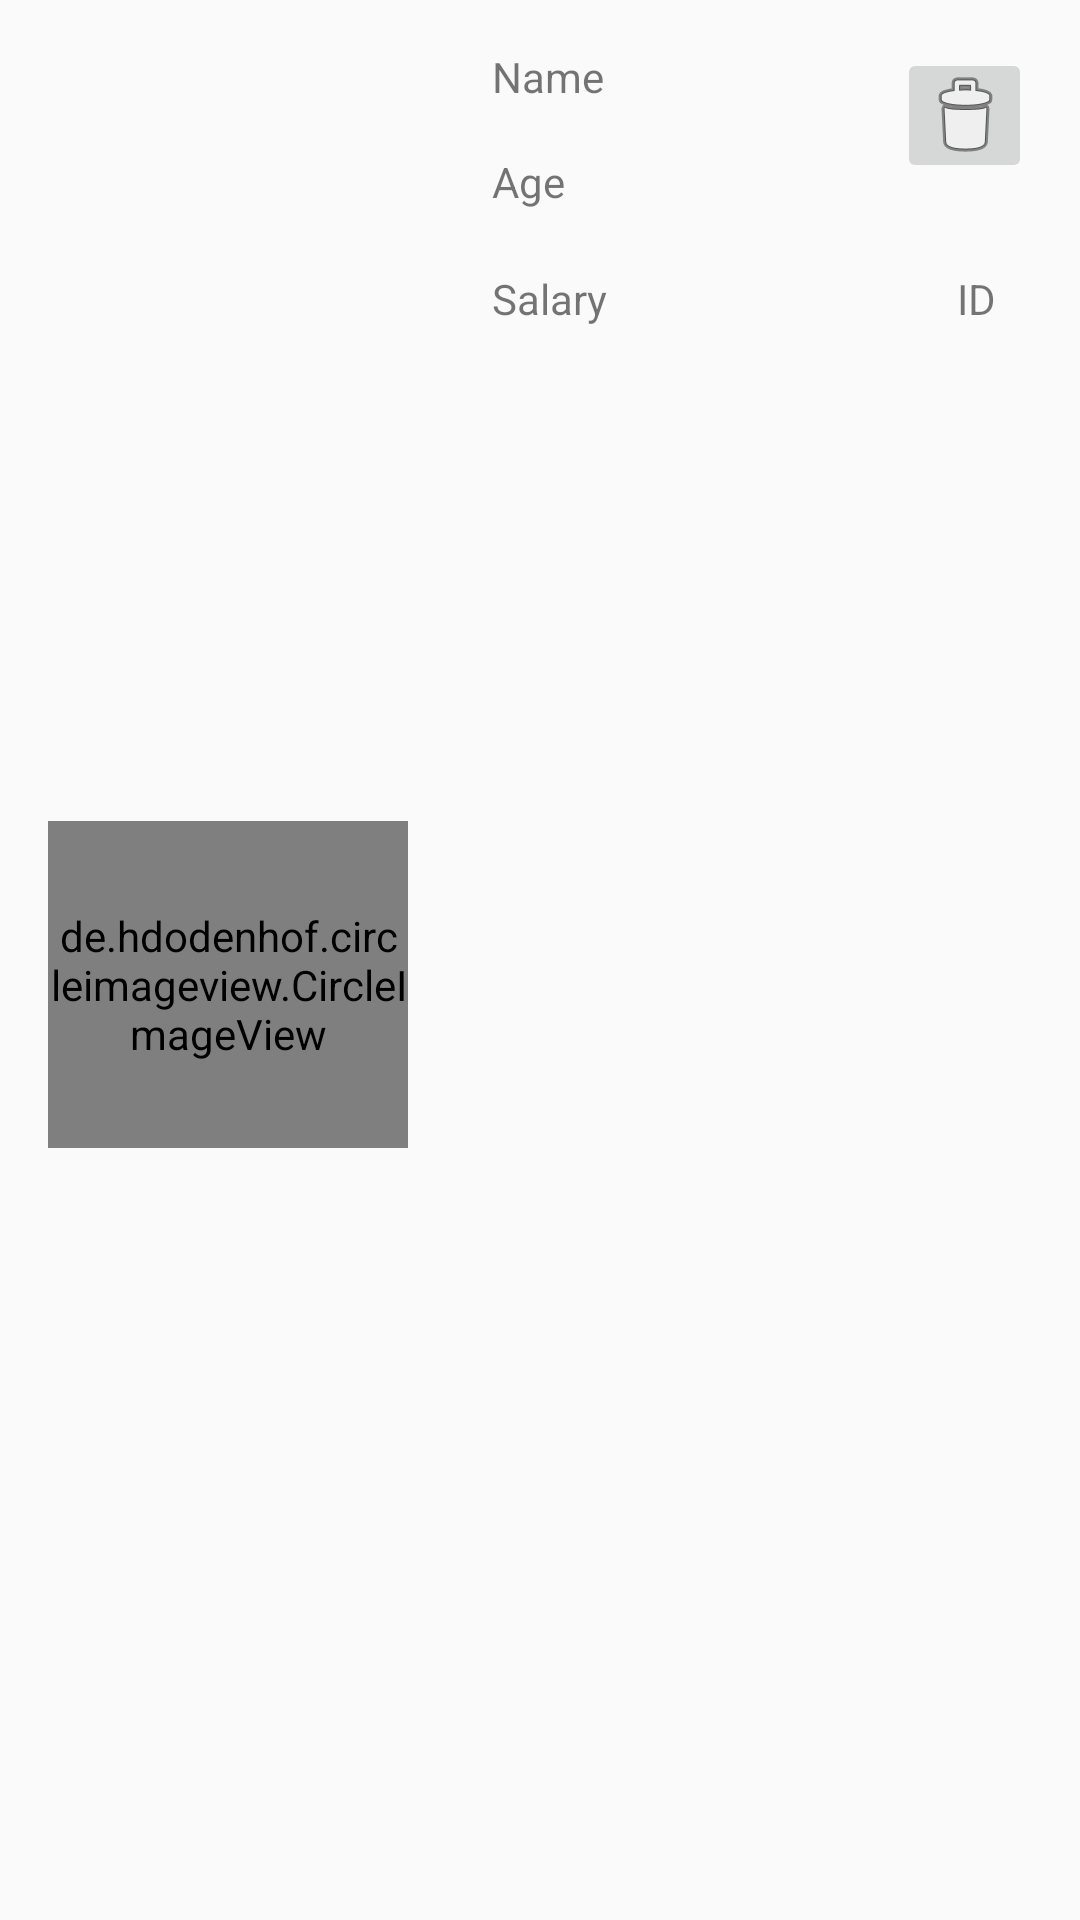

Icons on this 1080x1920 Android screen, each with the point to tap as [x,y]:
delete: [964,115]
